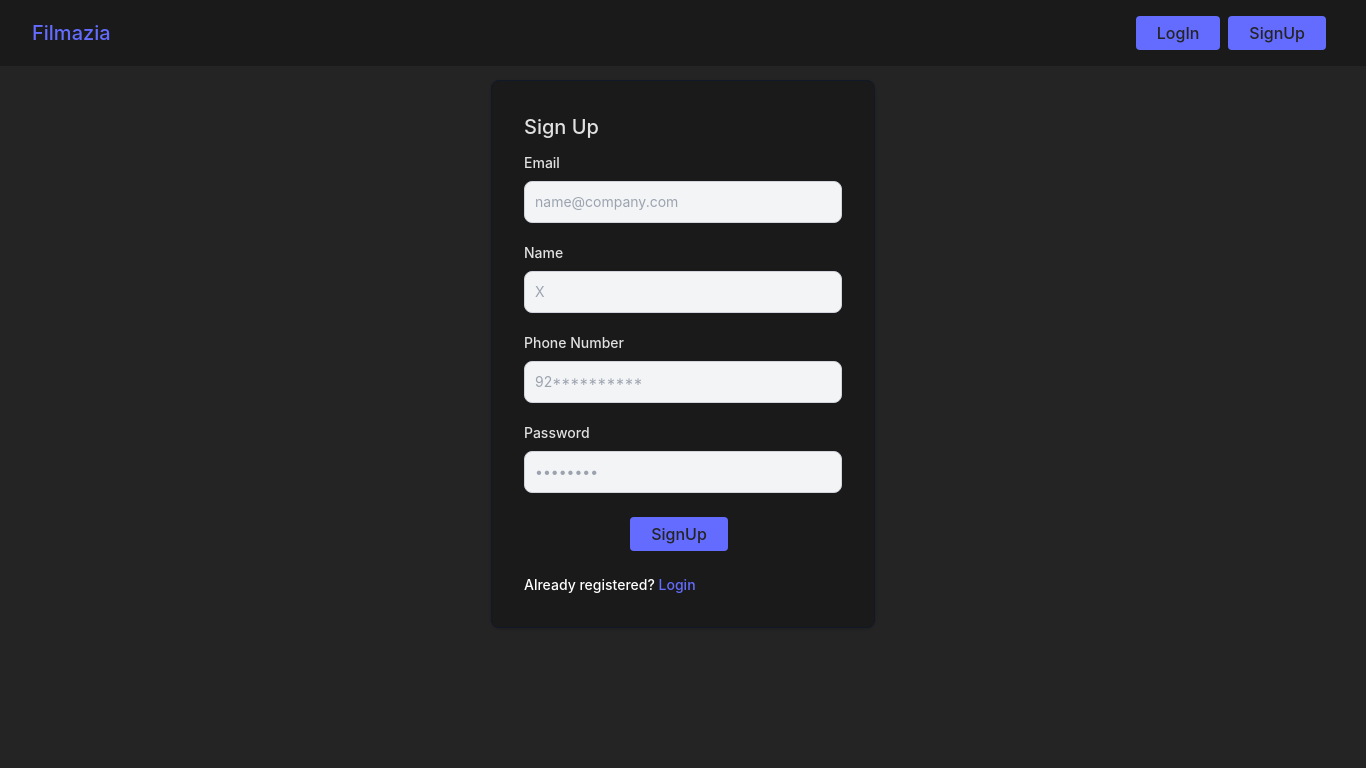
Scenario: SignUp Tests › Validation error for missing email
Step 1. Click the button "SignUp" below "Password" → (679, 534), box top-left (630, 517), bottom-right (728, 551)
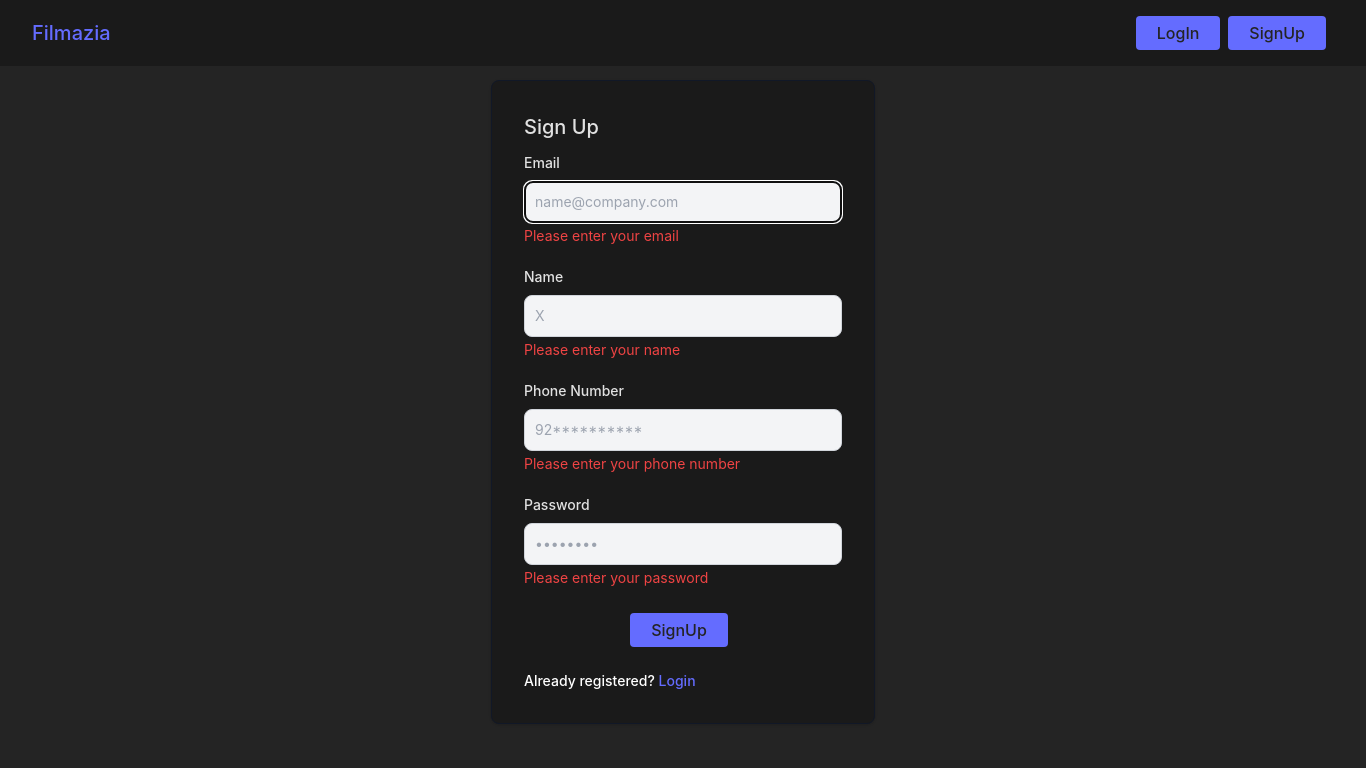
expect the text "Please enter your email" is shown: met, box top-left (524, 227), bottom-right (679, 244)
